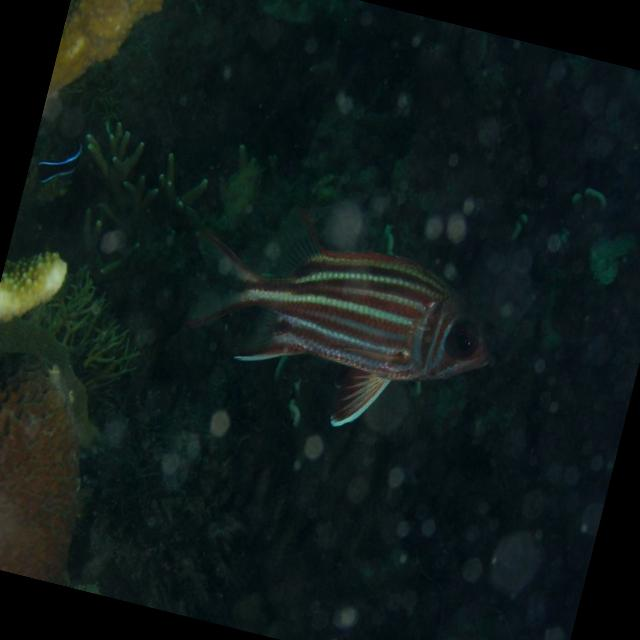Asker Baligi: (142, 191, 515, 482)
